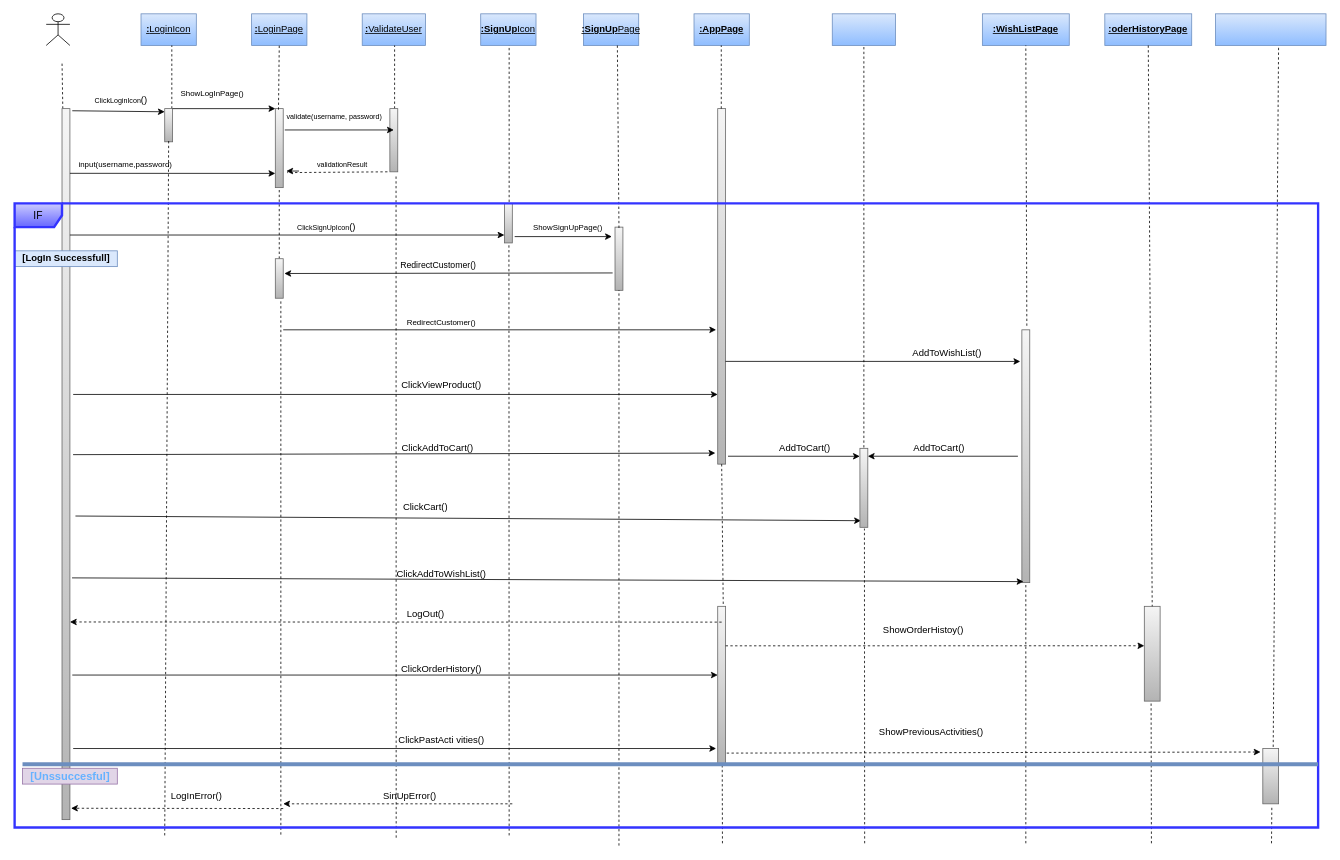
Image size: 1340x860. Some labels were removed from this diagram. Each missing label, with the centre of its shape:
:Cart: [863,29]
:oPastActivitiesPage: [1270,29]
Customer: [57,29]
